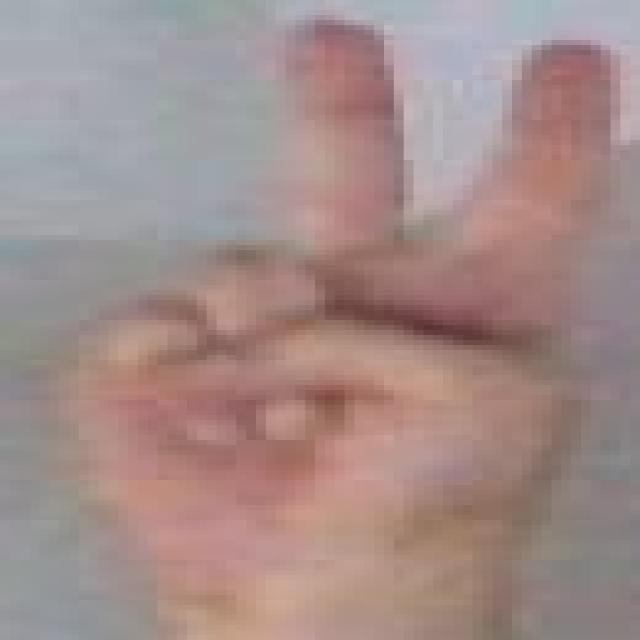V: (17, 8, 640, 603)
